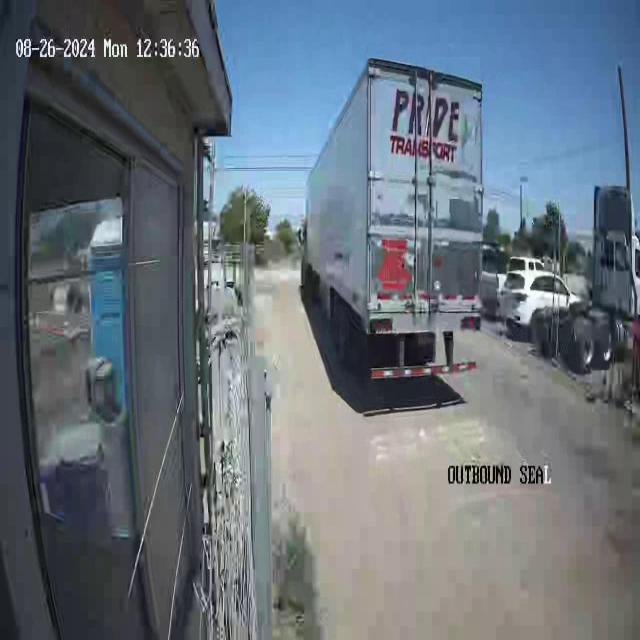TRUCK_CONTAINER: (297, 57, 485, 379)
